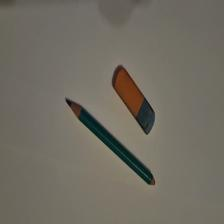eraser: (114, 69, 157, 137)
pencil: (66, 101, 156, 188)
